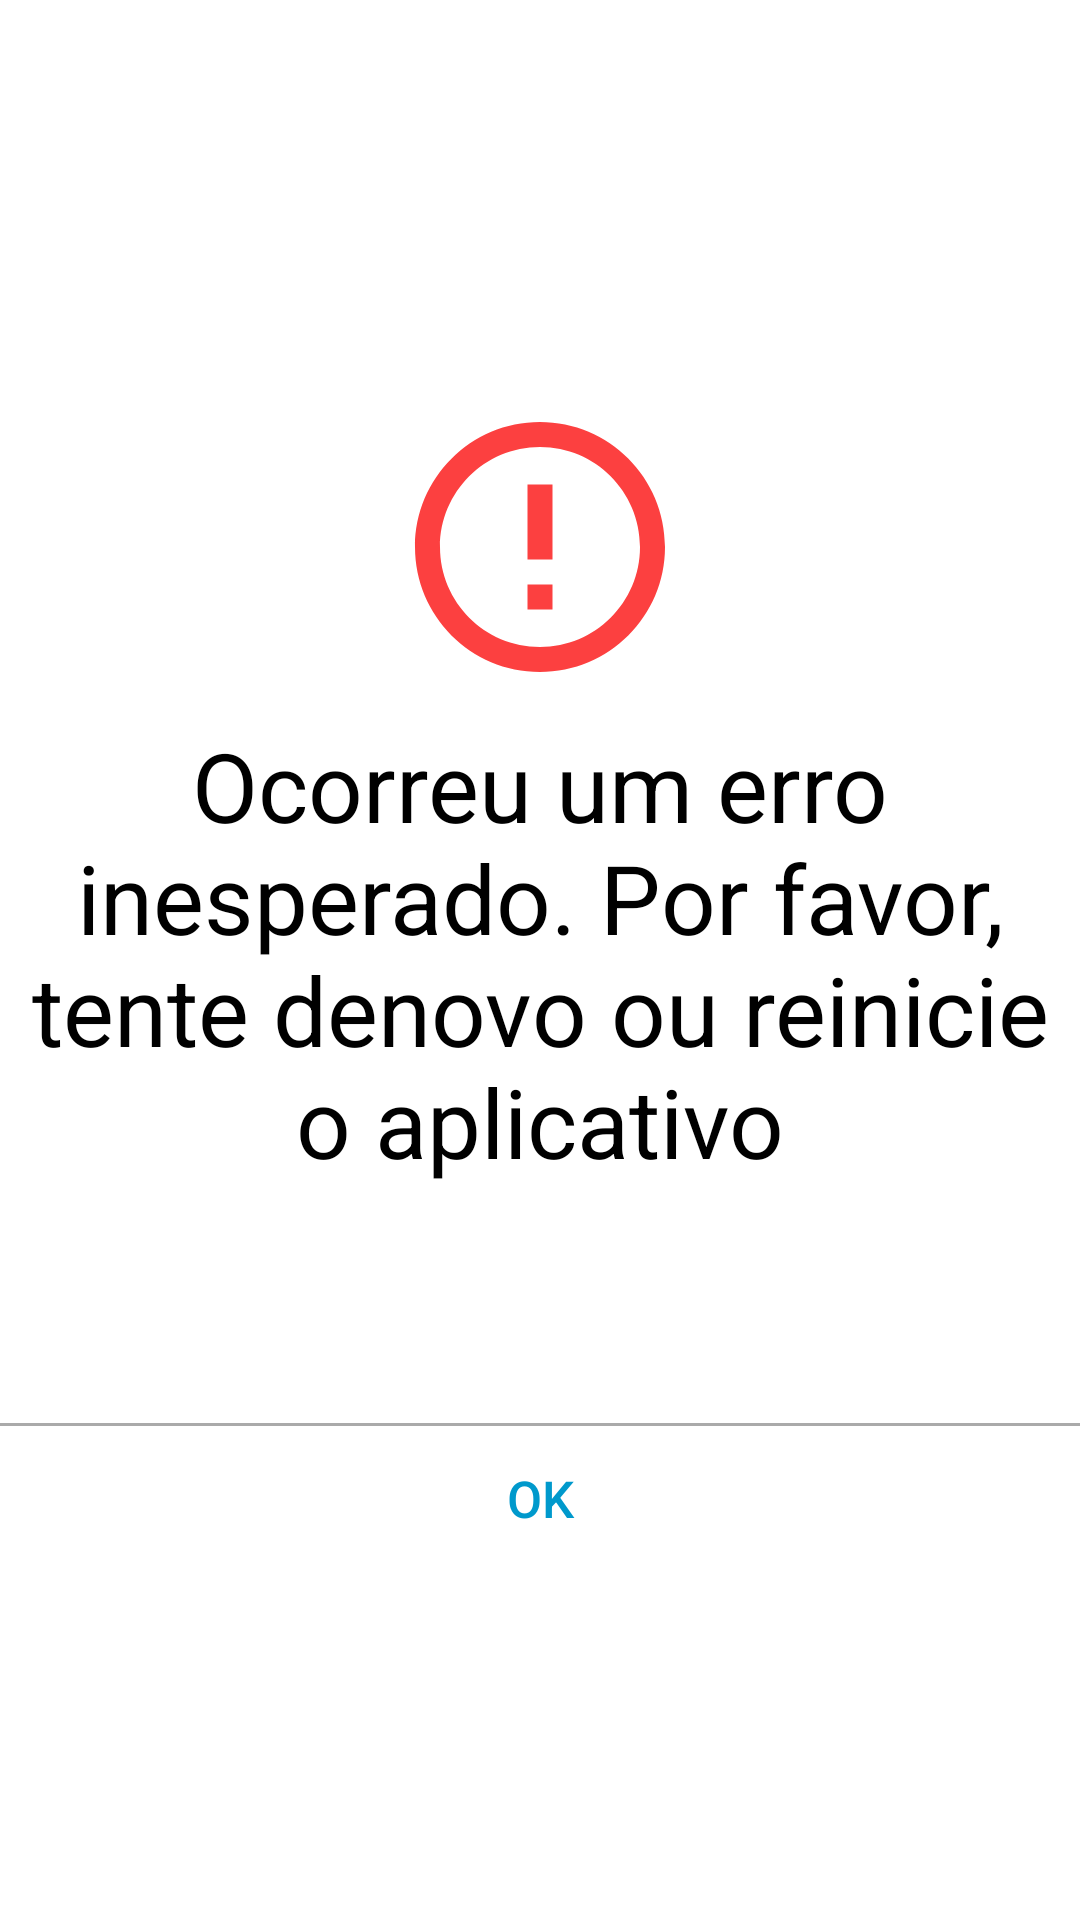

Named icons in this screenshot (1080 × 1920) and their bounding boxes, [x1, y1, x2, y2]:
error: [415, 422, 665, 672]
